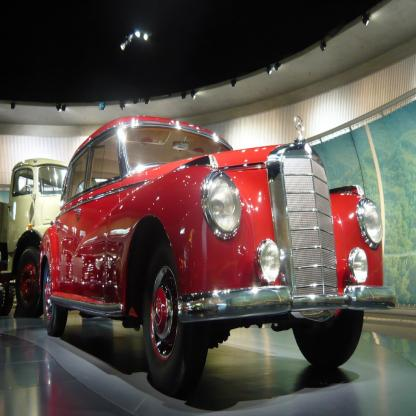Car: (33, 114, 398, 401)
